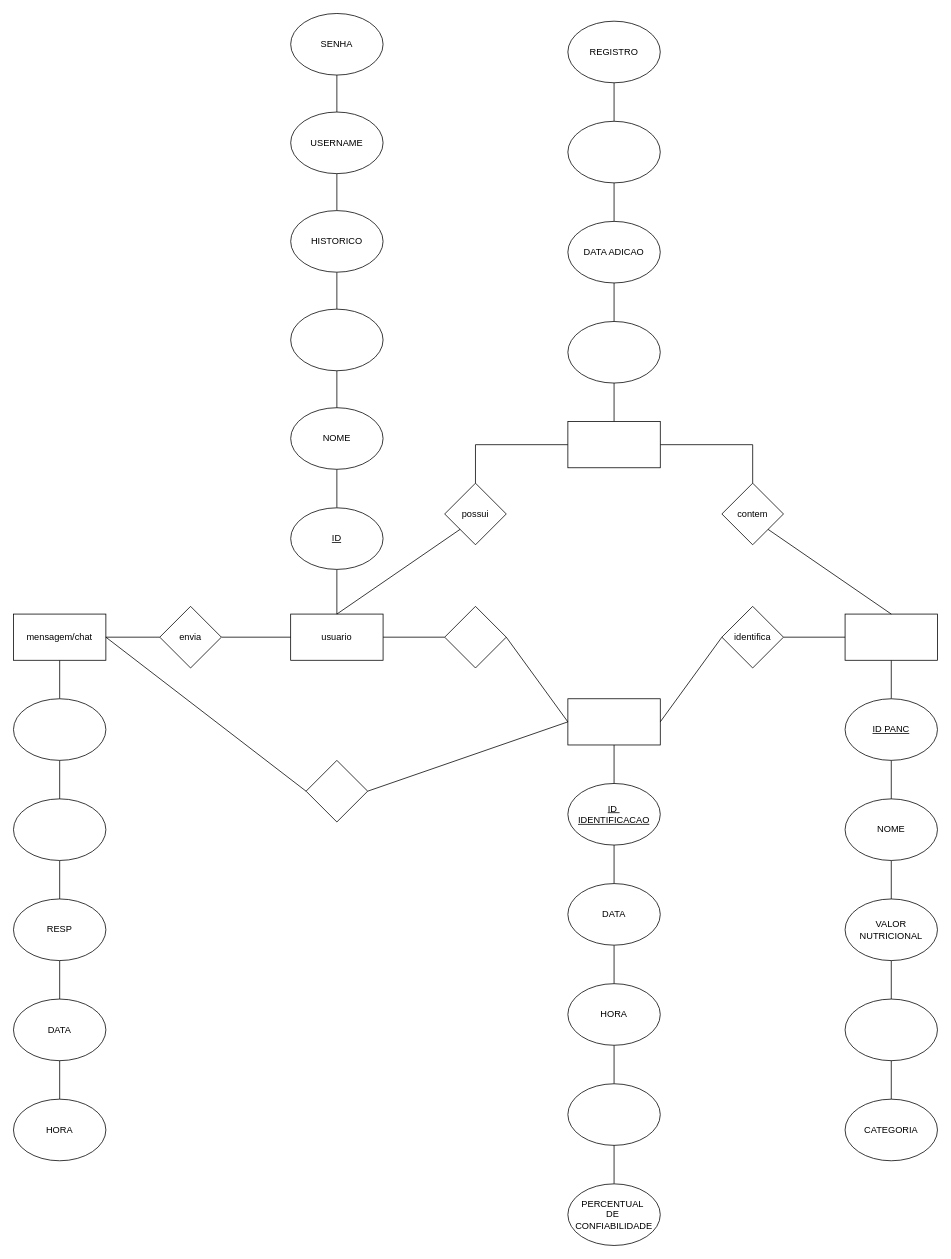
This 951x1259 diagram has some shape labels left out. Here are the shapes that lost their labels. From the top down, the centre of each, then its label:
At pixel 613 152: "QUANTIDADE".
At pixel 336 339: "EMAIL".
At pixel 613 352: "ID JARDIM".
At pixel 613 444: "jardim".
At pixel 475 637: "realiza".
At pixel 890 636: "PANC".
At pixel 59 729: "ID MENSAGEM".
At pixel 613 721: "identificacao".
At pixel 336 791: "associada a".
At pixel 59 829: "TEXT (PERGUNTA)".
At pixel 890 1029: "INFORMACOES".
At pixel 613 1114: "PADRAO".
